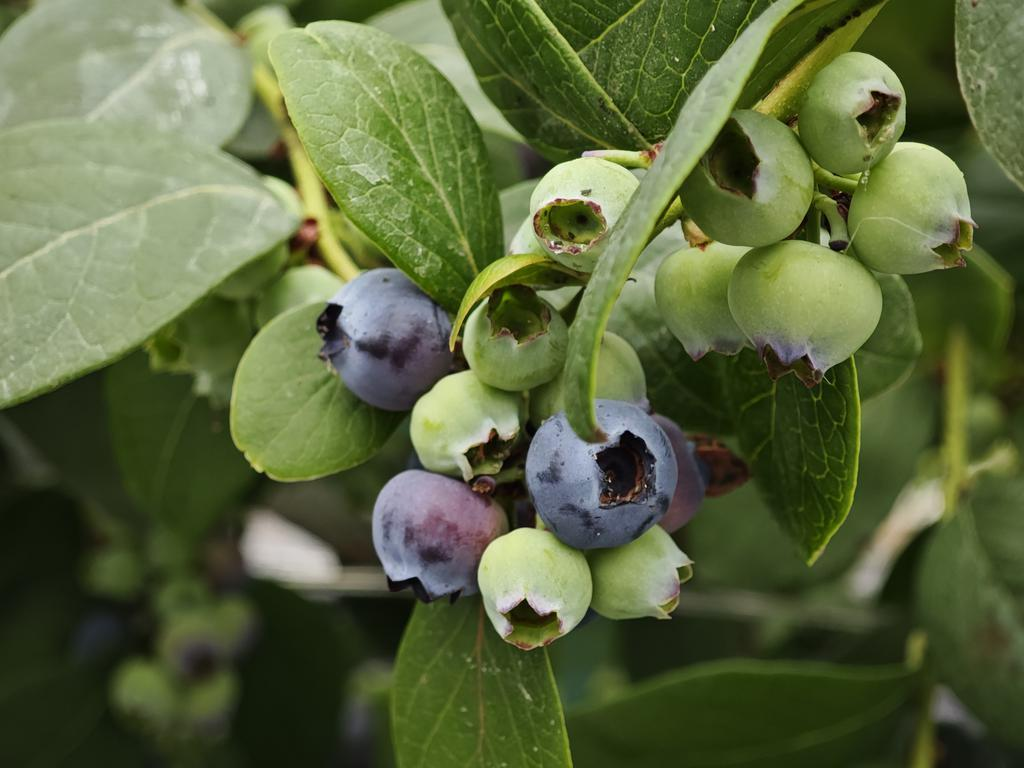RipeBlueBerry: (522, 398, 681, 554), (317, 263, 464, 413)
Semi-RipeBlueBerry: (369, 465, 512, 602)
UnripeBlueBerry: (724, 239, 886, 380), (478, 525, 595, 651)
